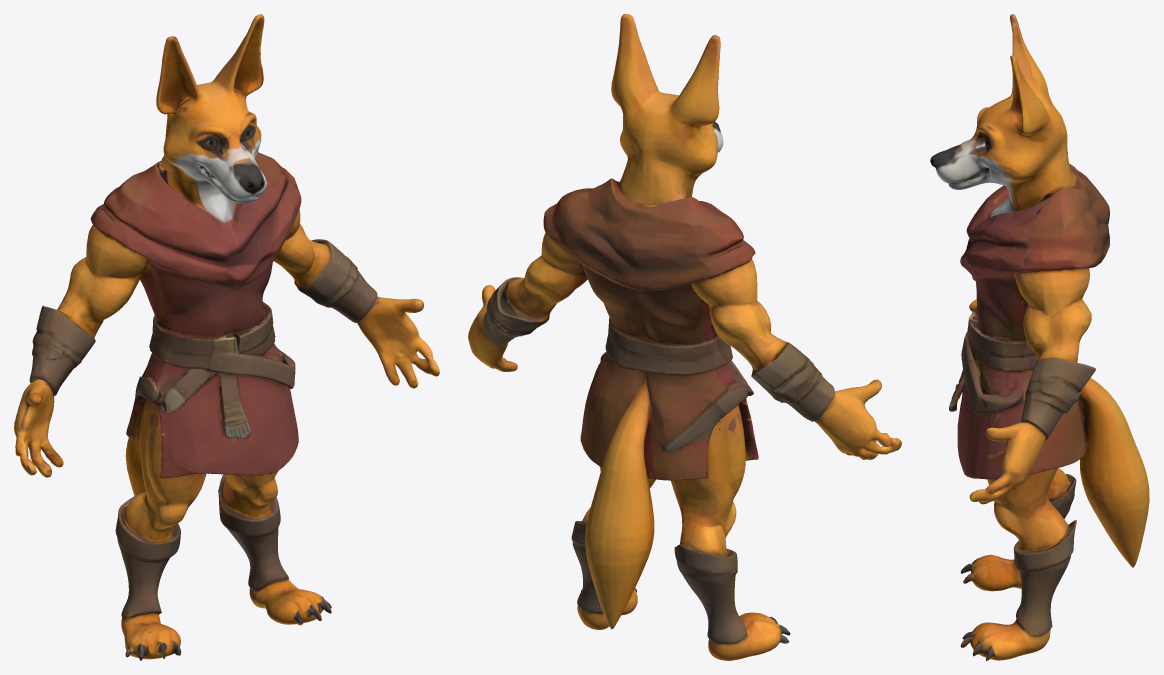
Rendered from LowPolyDogWarriorMed.fbx.
3 views of the same model, side by side, from view 1: azimuth 30°, elevation 25°; view 2: azimuth 150°, elevation 25°; view 3: azimuth 270°, elevation 25° (orthographic). The views are drawn at different scales.
Parts seen in each view (by area): view 1: Mesh_0; view 2: Mesh_0; view 3: Mesh_0.
Boxes of the visible parts, bbox=[...] form: Mesh_0: bbox=[14, 14, 439, 660]; Mesh_0: bbox=[468, 14, 901, 660]; Mesh_0: bbox=[930, 14, 1149, 660].
Bounding box in the file's own units: 71.85 × 100 × 34.
1 material, 1 textured.
